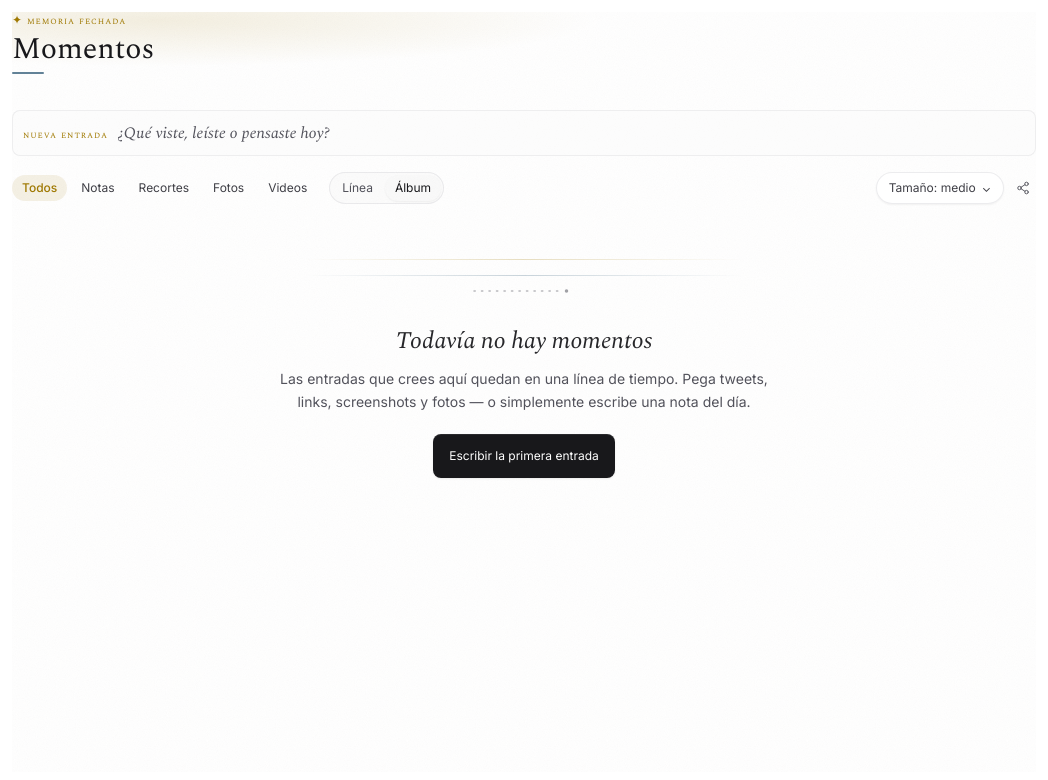
Test case: <MomentosView /> › el vacío abre el compositor en vez de solo señalarlo
The image size is (1048, 780).
Click the button "Escribir la primera entrada": click(524, 456) left=433, top=434, right=615, bottom=478
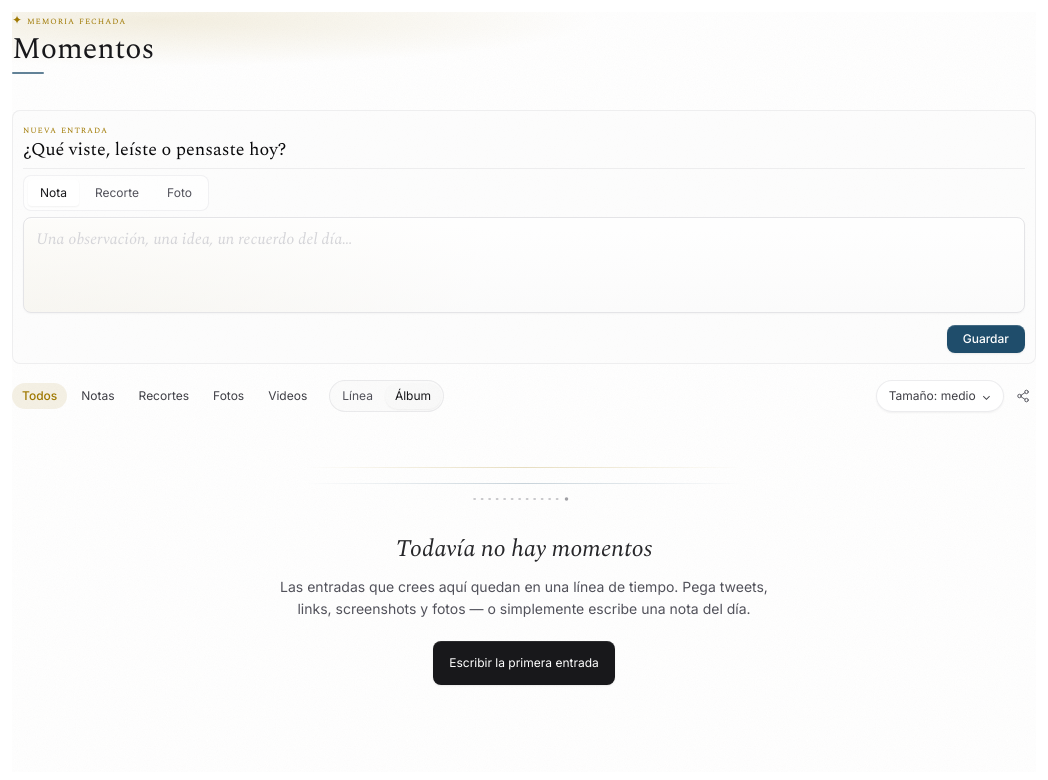
Now the button "Nota" is shown, box left=28, top=180, right=79, bottom=206
